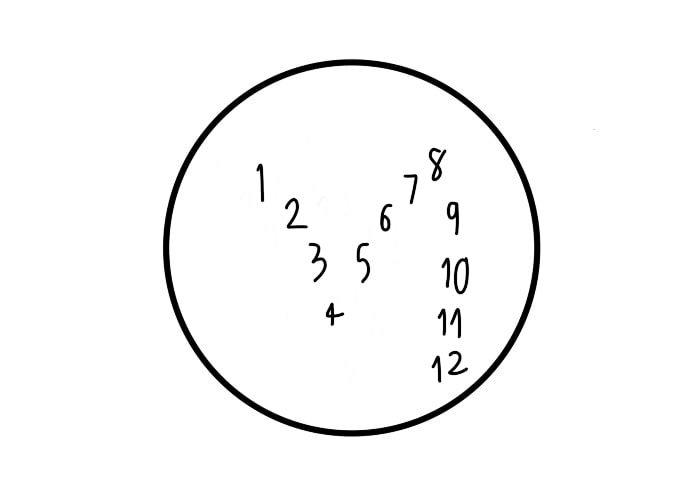eight: (426, 145, 448, 183)
eleven: (435, 307, 464, 338)
five: (353, 240, 372, 288)
four: (322, 301, 346, 328)
nine: (444, 195, 462, 239)
one: (252, 159, 269, 205)
seven: (401, 171, 419, 205)
six: (377, 200, 395, 237)
ten: (440, 250, 471, 296)
three: (307, 237, 329, 284)
twelve: (427, 350, 469, 384)
two: (281, 193, 309, 233)
